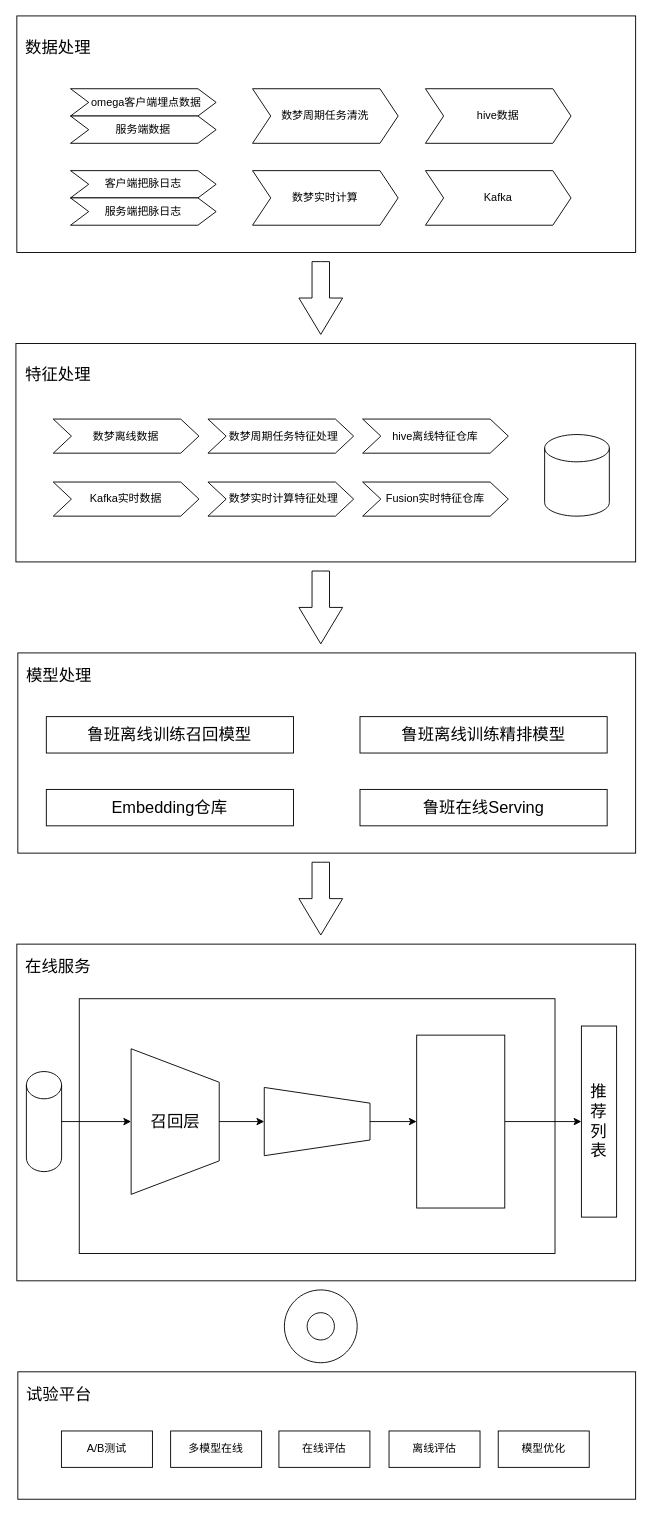
This 652x1515 diagram has some shape labels left out. Here are the shapes that lost their labels. From the top down, the centre of each, then its label:
At (x=576, y=475): "特征 仓库".
At (x=43, y=1121): "候 选 库".
At (x=316, y=1121): "排序层".
At (x=460, y=1121): "补充策略 冷启动 多样性 实时性".
